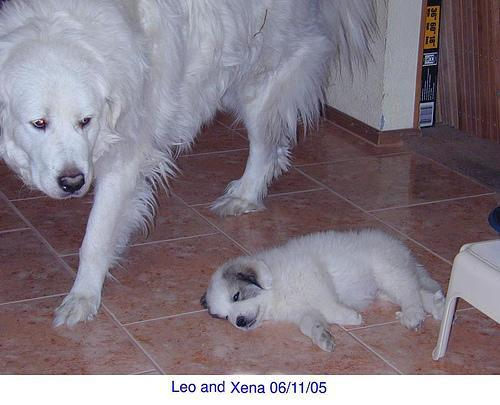Great_Pyrenees: (0, 0, 380, 328), (200, 228, 449, 356)
